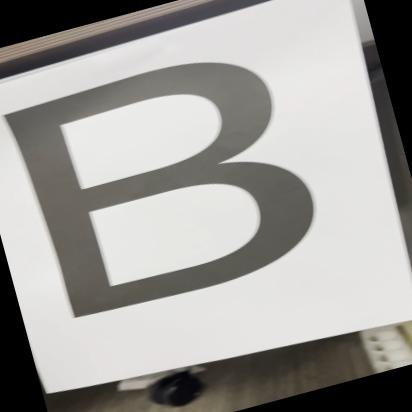seat: (0, 28, 351, 349)
